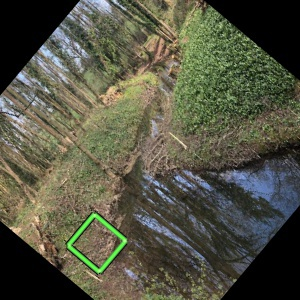square: (64, 209, 131, 275)
